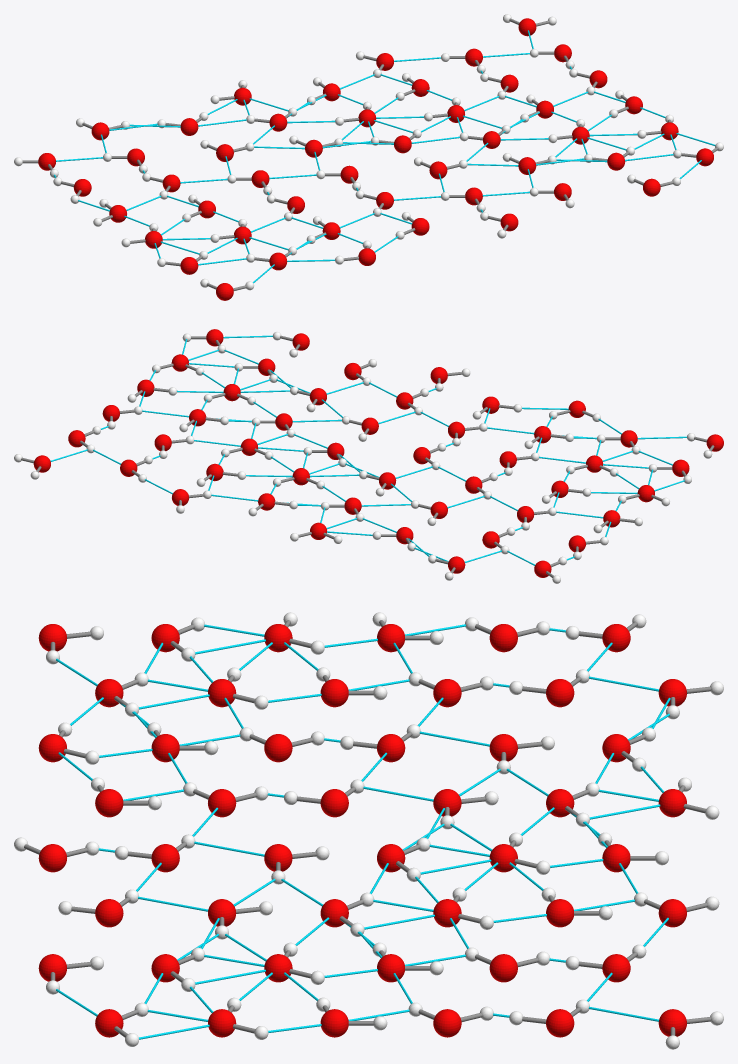
Rendered from Wasser stoffbrückenbundungen(H₂O).fbx.
The picture shows the model from 3 angles, top to bottom: view 1: azimuth 30°, elevation 25°; view 2: azimuth 150°, elevation 25°; view 3: azimuth 270°, elevation 25°; orthographic projection. The views are drawn at different scales.
Bounding box in the file's own units: 2144 × 60 × 1499.
